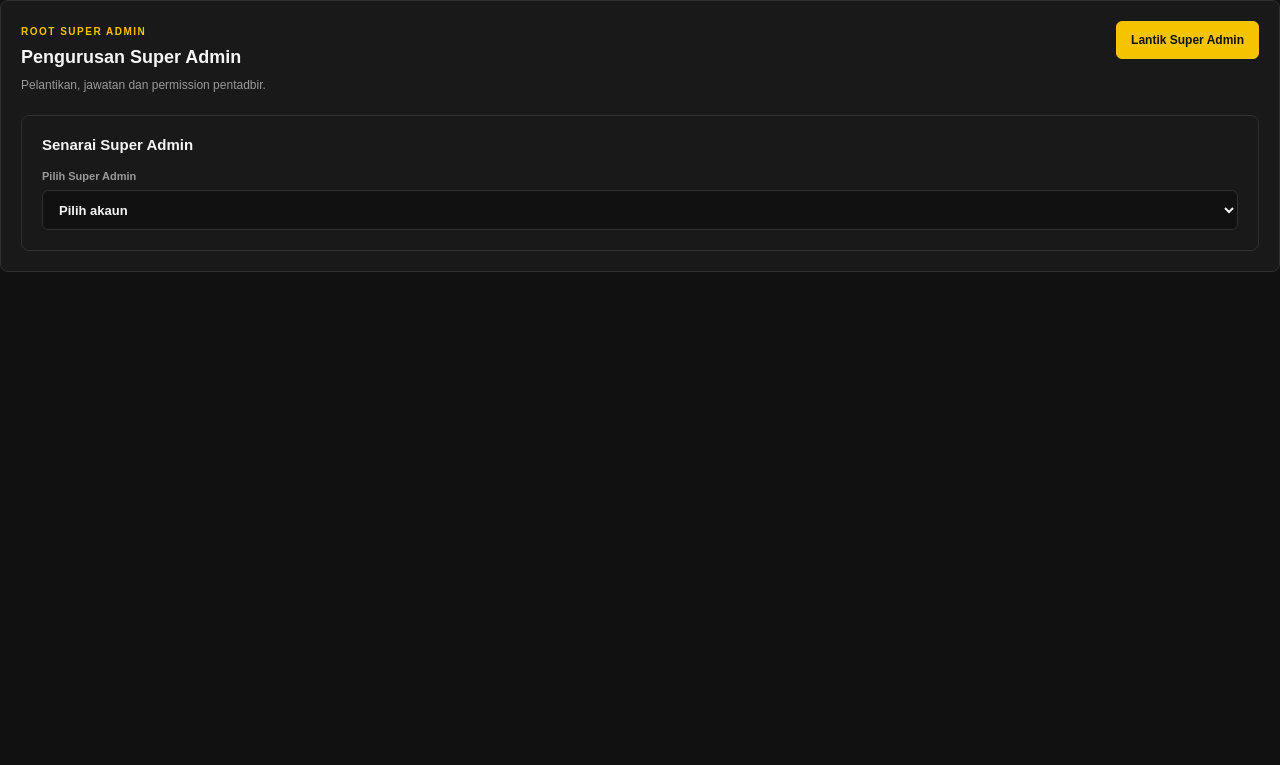
Scenario: SuperAdminManagement › memaparkan ralat apabila permintaan permission gagal
Select "Pentadbir Satu — Pengurus" in the dropdown labelled "Pilih Super Admin" at (640, 210), box [42,190,1238,230]
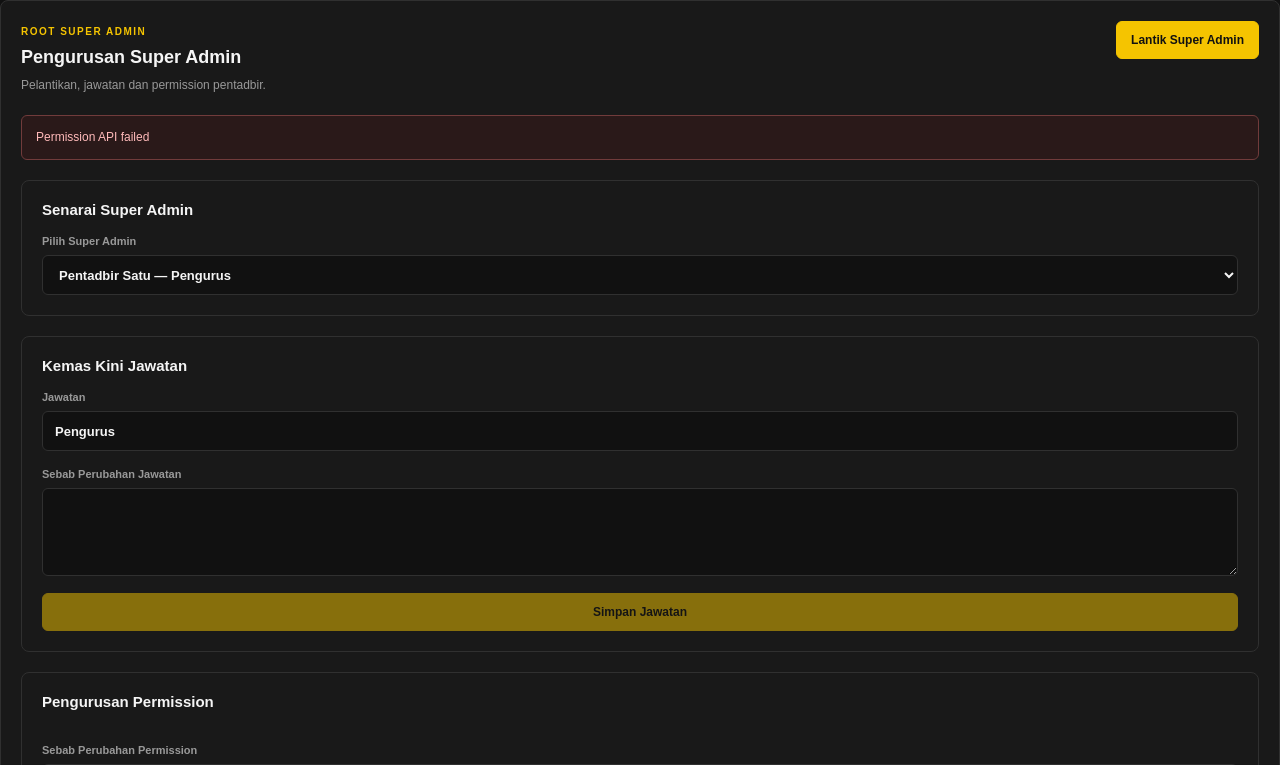
Expected: the text "Permission API failed" is shown, [21,115,1259,160]
